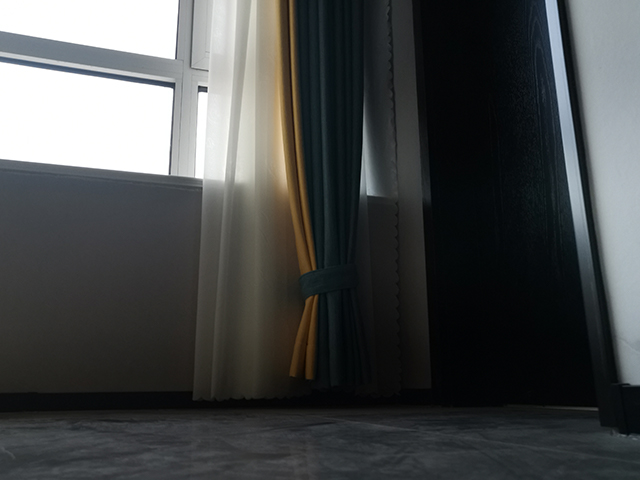curtain: (189, 1, 410, 405)
